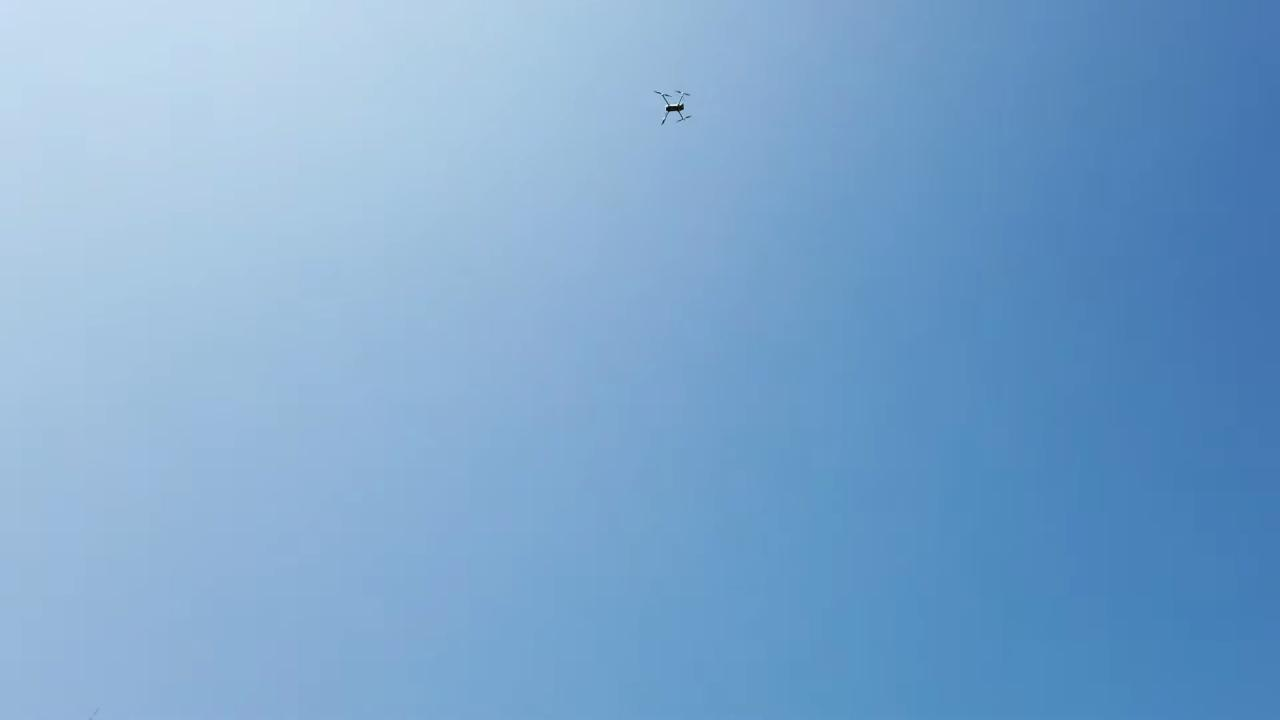Drone: (644, 78, 703, 132)
